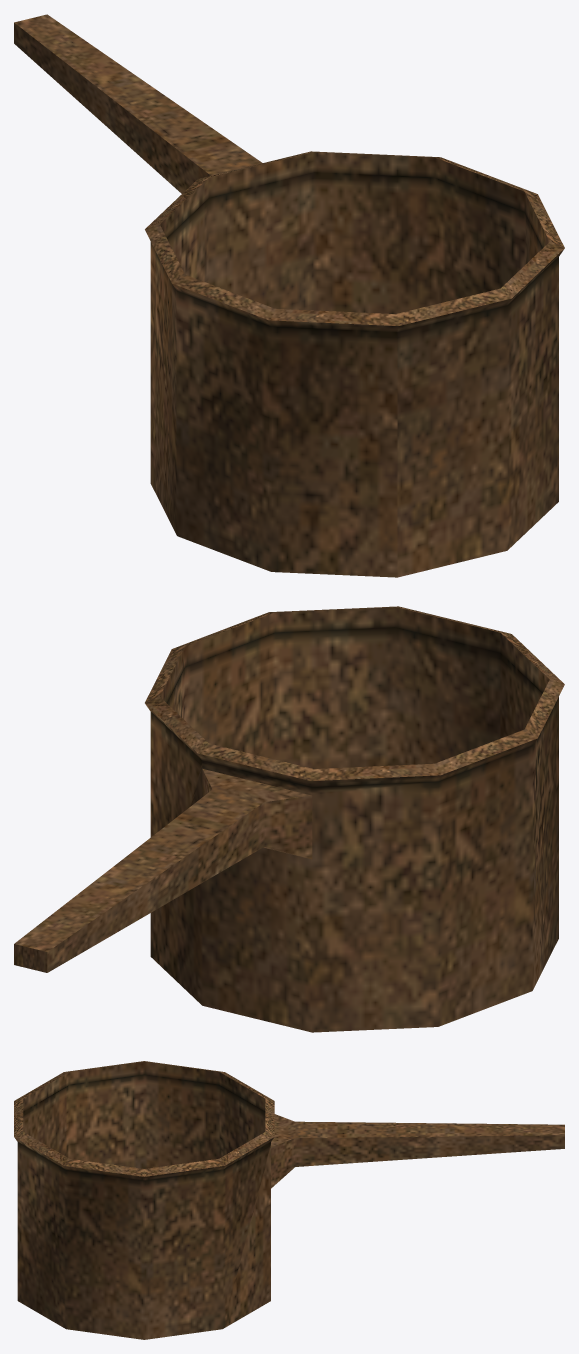
Rendered from edb_con_tato_pot_empty_s02_l0.fbx.
3 renders of one model, top to bottom at view 1: azimuth 30°, elevation 25°; view 2: azimuth 150°, elevation 25°; view 3: azimuth 270°, elevation 25°, orthographic. The views are drawn at different scales.
Parts seen in each view (by area): view 1: mesh_node; view 2: mesh_node; view 3: mesh_node.
Part boxes in pixels (box(x1,y1,x2,y2)): mesh_node: box(14, 14, 564, 577); mesh_node: box(14, 606, 564, 1032); mesh_node: box(14, 1061, 564, 1339).
Size of the model in its own units: 0.163 by 0.1105 by 0.3275.
1 material, 1 textured.
